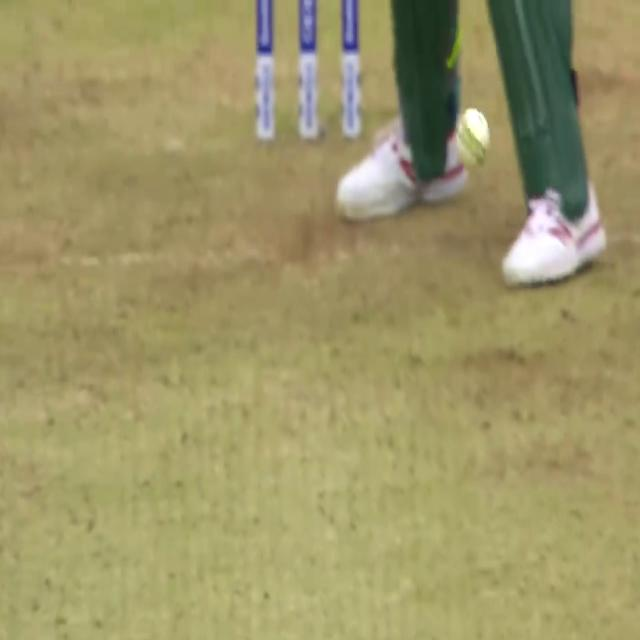ball: (448, 94, 502, 178)
